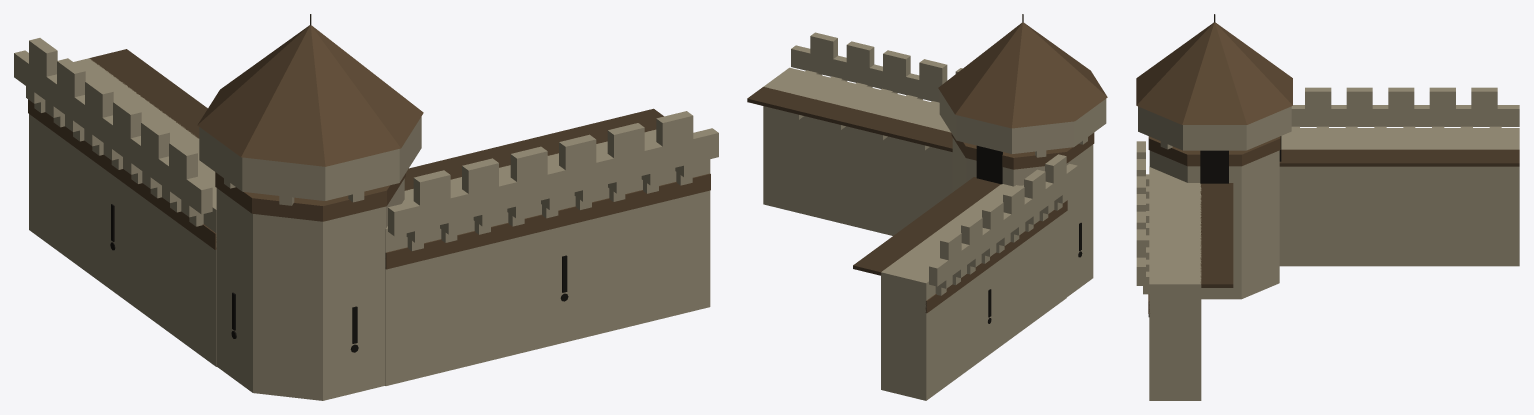
Rendered from LateWallCorner.fbx.
3 renders of one model, left to right at view 1: azimuth 30°, elevation 25°; view 2: azimuth 150°, elevation 25°; view 3: azimuth 270°, elevation 25°, orthographic. The views are drawn at different scales.
Visible parts, largest first — view 1: LateWallCorner; view 2: LateWallCorner; view 3: LateWallCorner.
Part boxes in pixels (x1=…): LateWallCorner: x1=14, y1=14, x2=718, y2=400; LateWallCorner: x1=747, y1=14, x2=1107, y2=400; LateWallCorner: x1=1136, y1=14, x2=1519, y2=400.
Size of the model in its own units: 1198 by 889 by 1198.
Materials: 5 (5 with a texture image).
